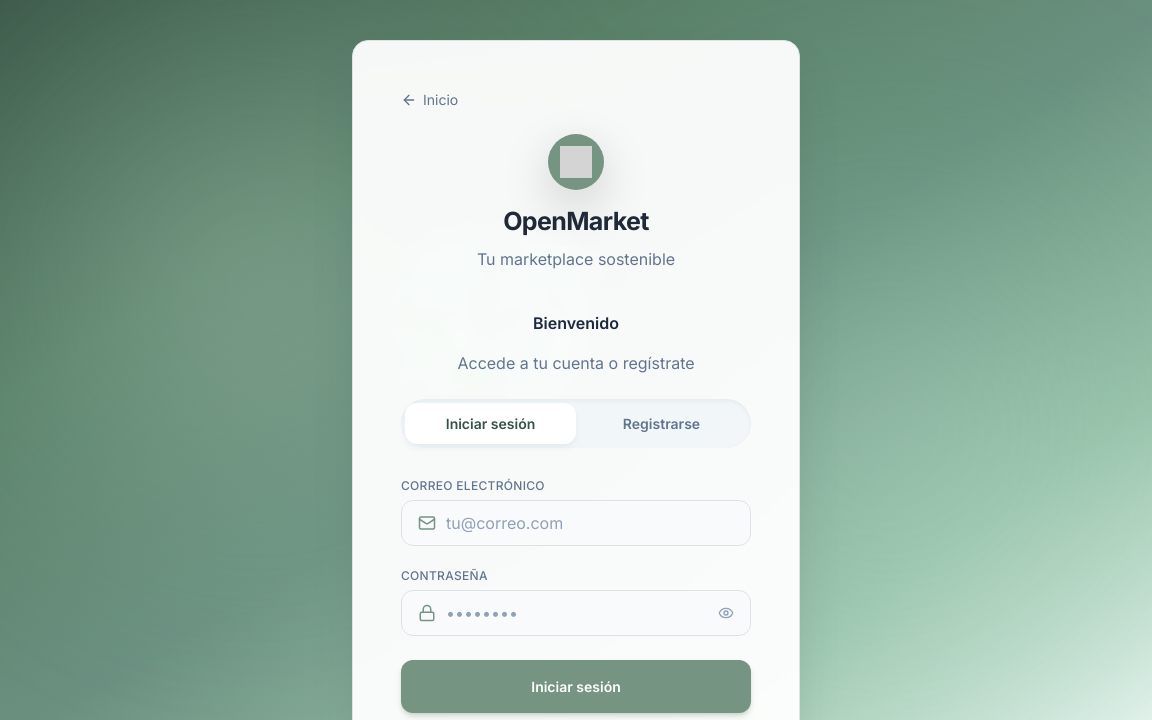
it: AuthPage › cambia al formulario de registro al hacer clic en Registrarse
The image size is (1152, 720).
Click the button "Registrarse". click: (662, 423)
box: [576,403,747,444]
(page scrolled)
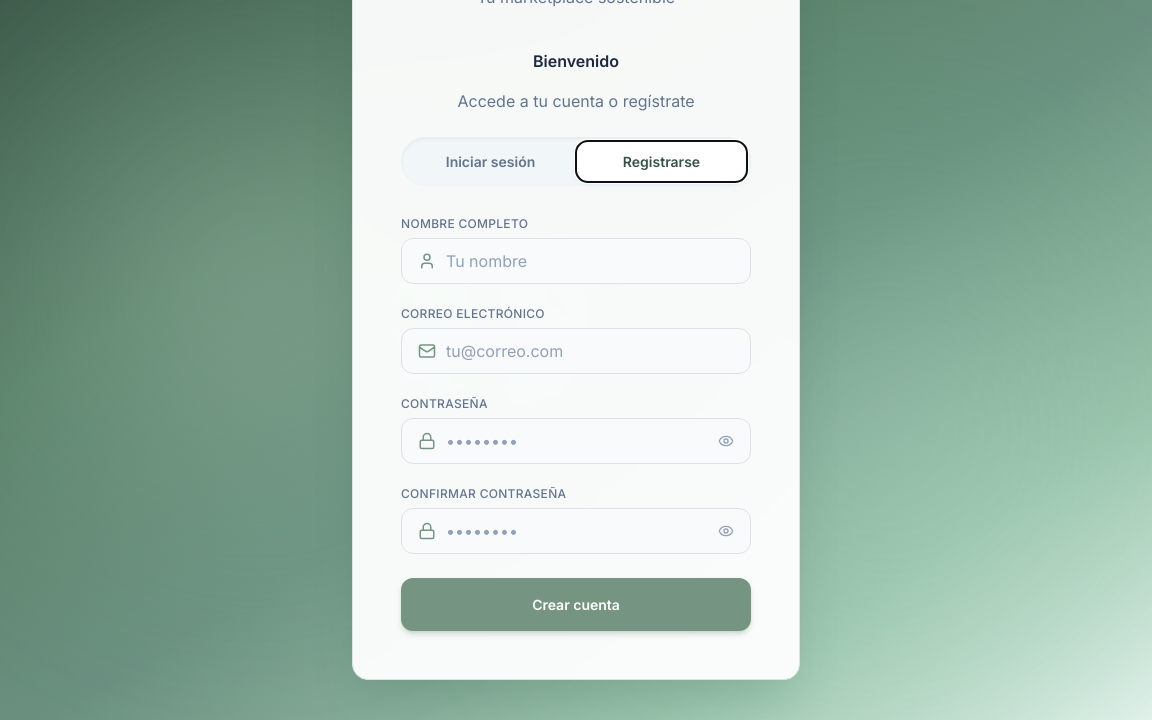
Result: the field with placeholder "Tu nombre" is shown at [446,249,734,273]
Result: the button "Crear cuenta" is shown at [401,578,751,631]
